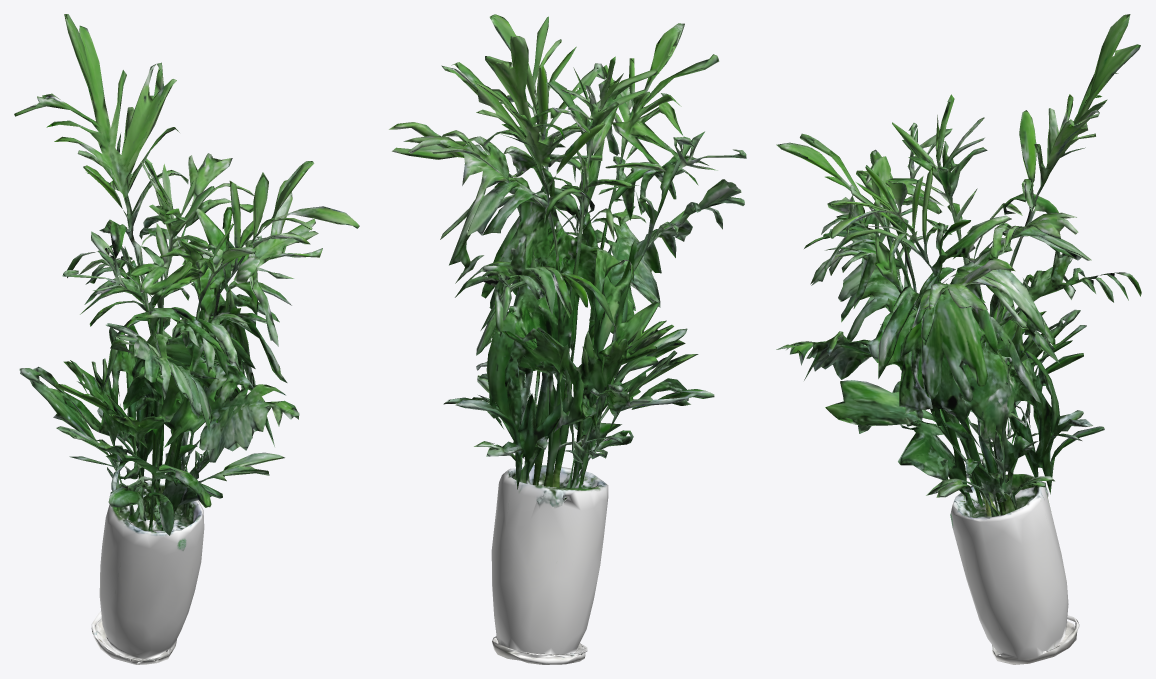
3 views of the same model, side by side, from view 1: azimuth 30°, elevation 25°; view 2: azimuth 150°, elevation 25°; view 3: azimuth 270°, elevation 25° (orthographic). The views are drawn at different scales.
Bounding box in the file's own units: 0.4706 × 0.9537 × 0.5053.
Materials: 1 (1 with a texture image).
